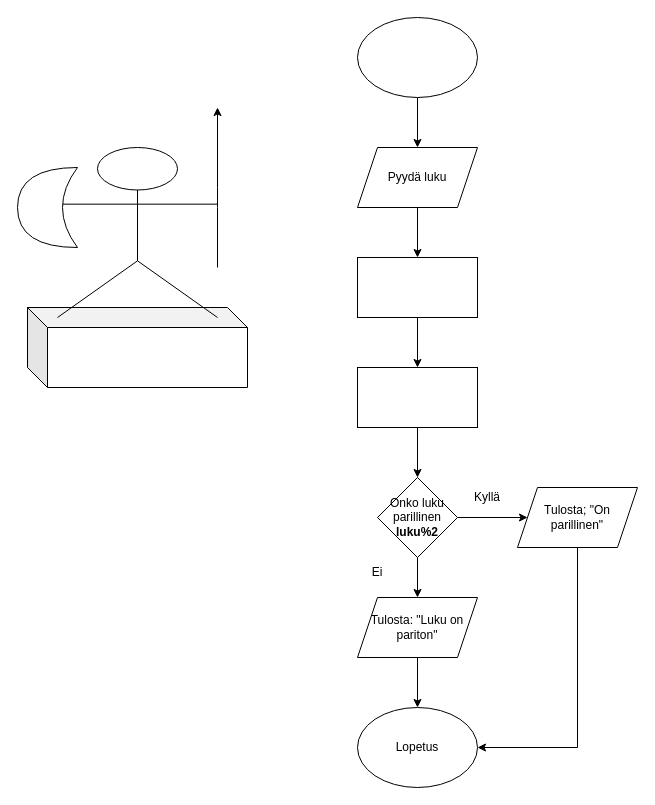
Image size: 655x805. Some labels were removed from this diagram. Here are the shapes that lost their labels. From the top down, the box of each, then its label:
(356, 16, 478, 98): Aloittava html lomake
(356, 256, 478, 318): Määritetään muuttuja var luku;
(356, 366, 478, 428): Lue käyttäjän antama luku muuttujaan luku = document.get
